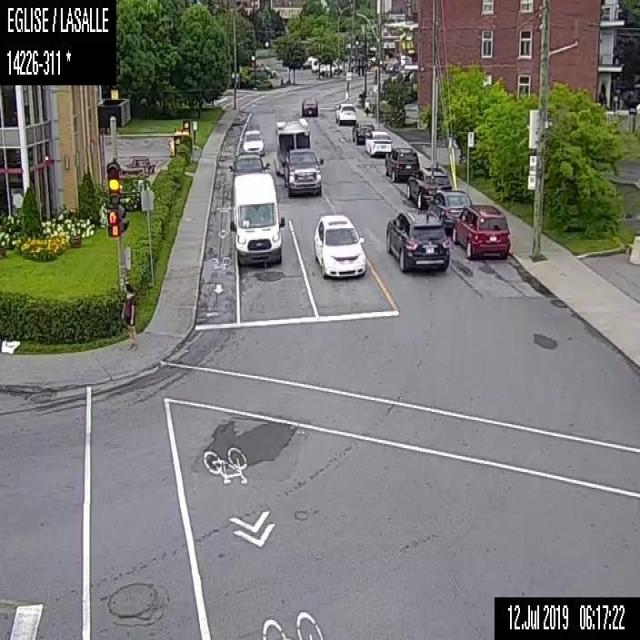pedestrian: (120, 283, 136, 349), (364, 95, 369, 116)
vehicle: (228, 168, 286, 267), (384, 211, 450, 275), (274, 120, 322, 196), (313, 212, 365, 279), (452, 203, 510, 260), (426, 188, 472, 229), (406, 167, 453, 206), (382, 144, 419, 180), (226, 152, 269, 173), (240, 126, 264, 154), (364, 129, 389, 155), (351, 120, 374, 143), (335, 101, 354, 125), (300, 96, 316, 115)
